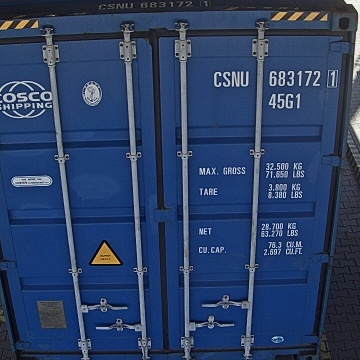serial_id: (213, 69, 338, 86)
